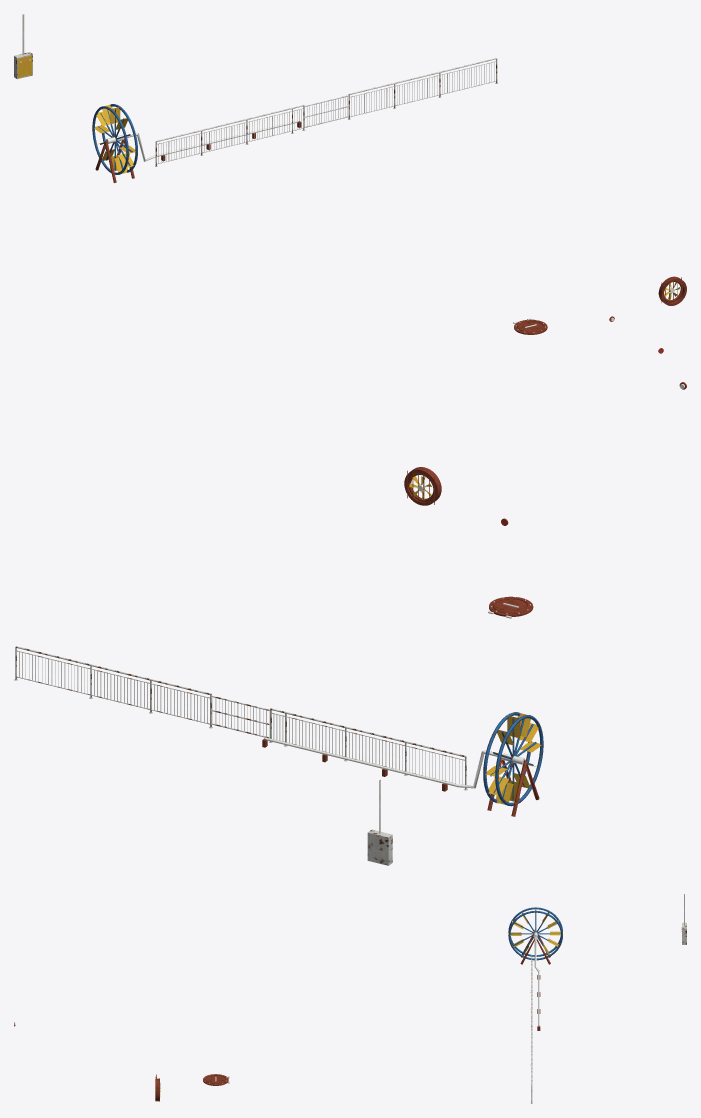
The model's file is sala_interattivi.glb.
3 views of the same model, one above another, from view 1: azimuth 30°, elevation 25°; view 2: azimuth 150°, elevation 25°; view 3: azimuth 270°, elevation 25° (orthographic). The views are drawn at different scales.
Visible parts, largest first — view 1: sala_recinto_spiaggia, sala_ruota_cancello, sala_trasmissione_cancello, sala_cancello_spiaggia, sala_quadro_elettrico; view 2: sala_recinto_spiaggia, sala_ruota_cancello, sala_trasmissione_cancello, sala_cancello_spiaggia, sala_quadro_elettrico, sala_portello_scarico, sala_turbina_carter; view 3: sala_ruota_cancello, sala_trasmissione_cancello.
Boxes of the visible parts, bbox=[...] form: sala_recinto_spiaggia: bbox=[155, 58, 497, 166]; sala_ruota_cancello: bbox=[92, 104, 137, 174]; sala_trasmissione_cancello: bbox=[95, 120, 301, 182]; sala_cancello_spiaggia: bbox=[303, 93, 349, 127]; sala_quadro_elettrico: bbox=[14, 14, 32, 79]; sala_recinto_spiaggia: bbox=[14, 646, 467, 790]; sala_ruota_cancello: bbox=[483, 712, 543, 806]; sala_trasmissione_cancello: bbox=[262, 737, 539, 816]; sala_cancello_spiaggia: bbox=[210, 693, 271, 738]; sala_quadro_elettrico: bbox=[367, 780, 392, 865]; sala_portello_scarico: bbox=[488, 596, 533, 618]; sala_turbina_carter: bbox=[404, 467, 441, 505]; sala_ruota_cancello: bbox=[508, 907, 562, 960]; sala_trasmissione_cancello: bbox=[520, 934, 550, 1030].
Size of what is drawn, in the model's own units: 17.22 by 5.95 by 33.24.
Materials: 7 (6 with a texture image).
